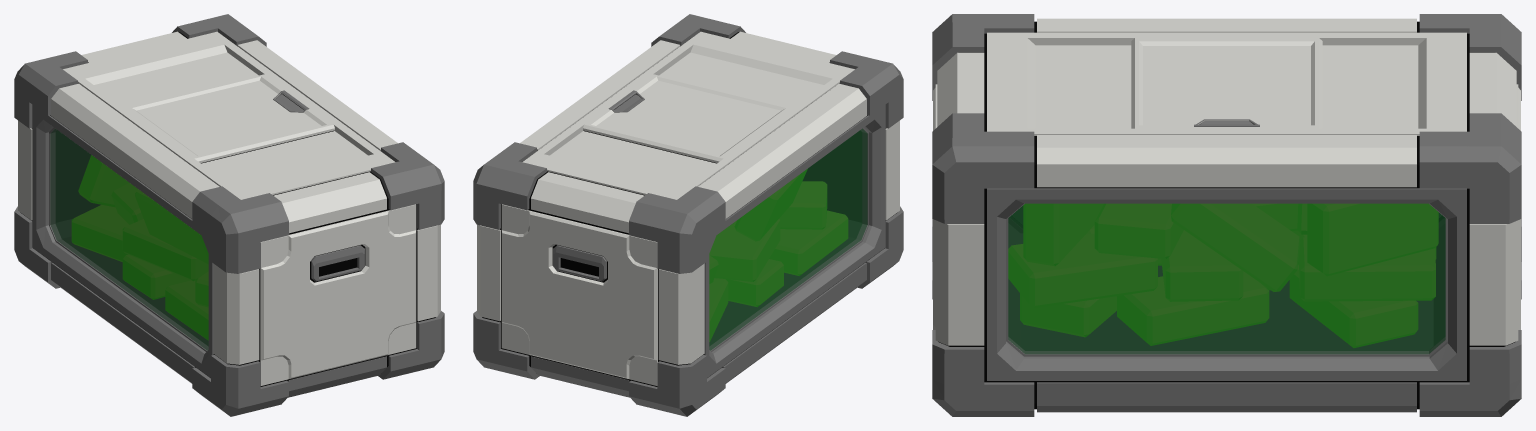
The model's file is SM_Uranium_Container.fbx.
3 renders of one model, left to right at view 1: azimuth 30°, elevation 25°; view 2: azimuth 150°, elevation 25°; view 3: azimuth 270°, elevation 25°, orthographic. The views are drawn at different scales.
Parts seen in each view (by area): view 1: SM_Uranium_Container; view 2: SM_Uranium_Container; view 3: SM_Uranium_Container.
Part boxes in pixels (box(x1,y1,x2,y2)): SM_Uranium_Container: box(14, 14, 444, 416); SM_Uranium_Container: box(473, 14, 903, 416); SM_Uranium_Container: box(932, 14, 1521, 416).
Size of the model in its own units: 17.36 by 15.38 by 30.36.
